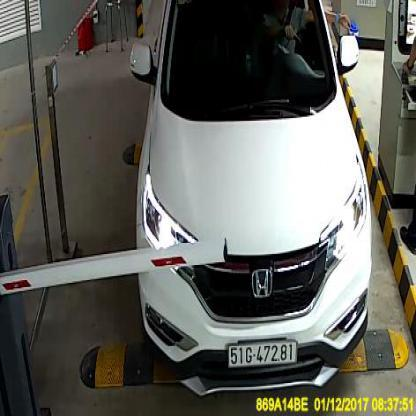biensoxe: (228, 340, 298, 368)
